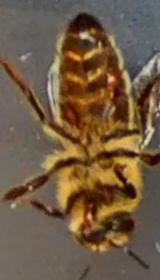varroa_mite: (54, 99, 86, 130), (95, 65, 127, 95)
